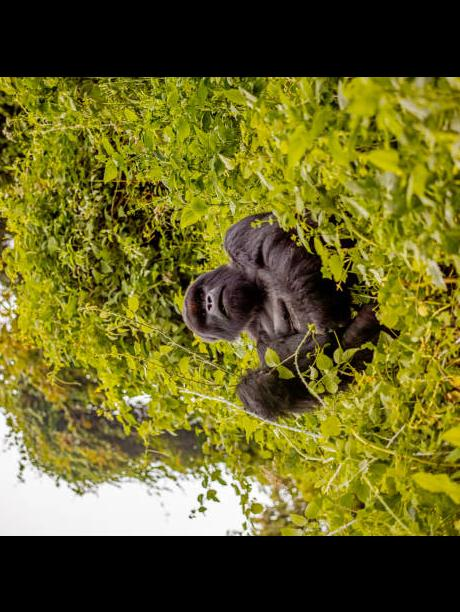goriile_montagne: (166, 209, 374, 416)
